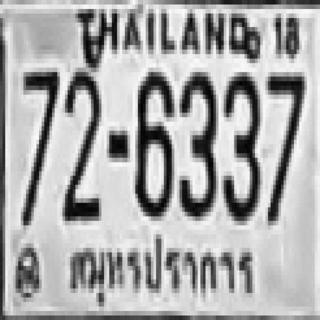N02: (62, 70, 99, 219)
N03: (177, 68, 216, 216), (221, 68, 258, 216)
N06: (133, 68, 172, 216)
N07: (265, 68, 302, 221), (21, 68, 57, 221), (21, 68, 57, 194)
P57: (66, 234, 257, 309)
